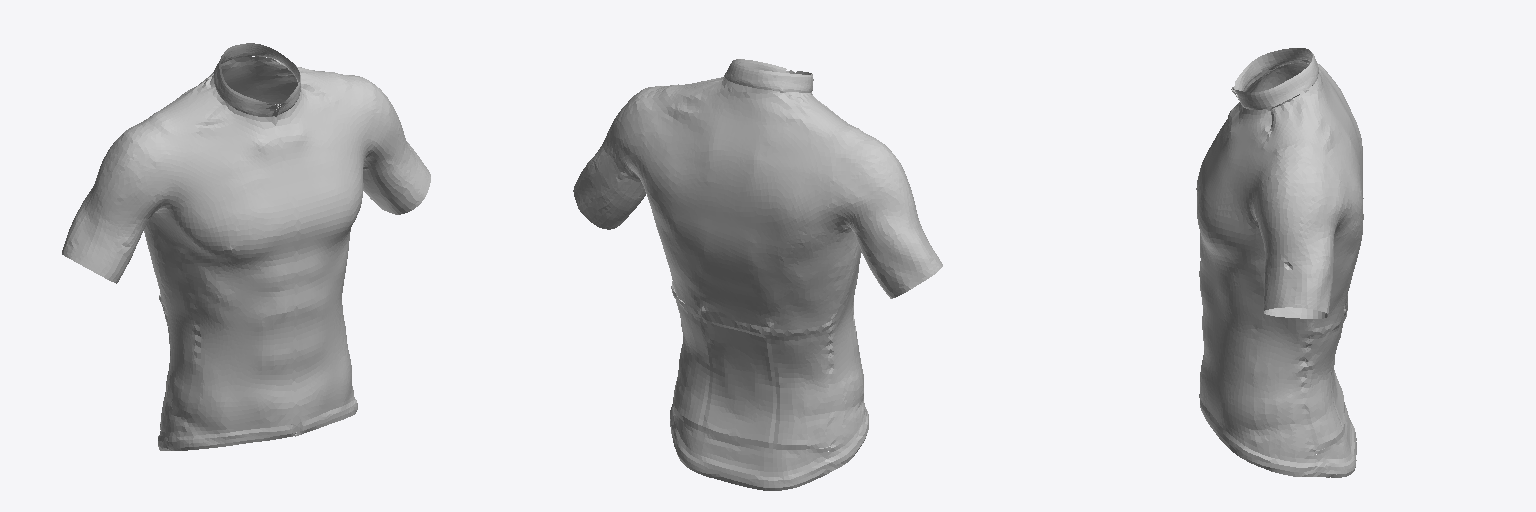
3 views of the same model, side by side, from view 1: azimuth 30°, elevation 25°; view 2: azimuth 150°, elevation 25°; view 3: azimuth 270°, elevation 25° (orthographic).
Parts seen in each view (by area): view 1: dada kanan, dada kanan_1, arm kanan_1, arm kanan, side kiri_1, Pattern2D_492047, collar, Zipper_1_7, Zipper_1_6; view 2: Pattern2D_492048, Pattern2D_492047, Pattern2D_92082, arm kanan_1, arm kanan, side kiri_1, collar, Pattern2D_492049; view 3: dada kanan_1, arm kanan, side kiri_2, Pattern2D_492047, Pattern2D_92082, collar, Pattern2D_492048, arm kanan_1, dada kanan.
Boxes of the visible parts, x1,y1,x2,y2 form: dada kanan: [173, 101, 294, 450]; dada kanan_1: [278, 88, 364, 434]; arm kanan_1: [62, 74, 223, 283]; arm kanan: [273, 59, 430, 214]; side kiri_1: [145, 206, 197, 450]; Pattern2D_492047: [229, 57, 297, 105]; collar: [214, 43, 300, 116]; Zipper_1_7: [275, 104, 301, 435]; Zipper_1_6: [271, 106, 297, 436]; Pattern2D_492048: [727, 86, 844, 490]; Pattern2D_492047: [635, 78, 746, 483]; Pattern2D_92082: [672, 281, 832, 449]; arm kanan_1: [782, 91, 942, 298]; arm kanan: [573, 77, 728, 229]; side kiri_1: [827, 225, 868, 470]; collar: [724, 59, 813, 92]; Pattern2D_492049: [671, 286, 832, 336]; dada kanan_1: [1197, 106, 1271, 465]; arm kanan: [1249, 91, 1346, 318]; side kiri_2: [1250, 220, 1318, 476]; Pattern2D_492047: [1303, 74, 1363, 477]; Pattern2D_92082: [1302, 294, 1347, 449]; collar: [1234, 48, 1318, 109]; Pattern2D_492048: [1306, 61, 1363, 447]; arm kanan_1: [1253, 60, 1340, 91]; dada kanan: [1196, 70, 1269, 397].
Size of the model in its own units: 634 by 671 by 254.